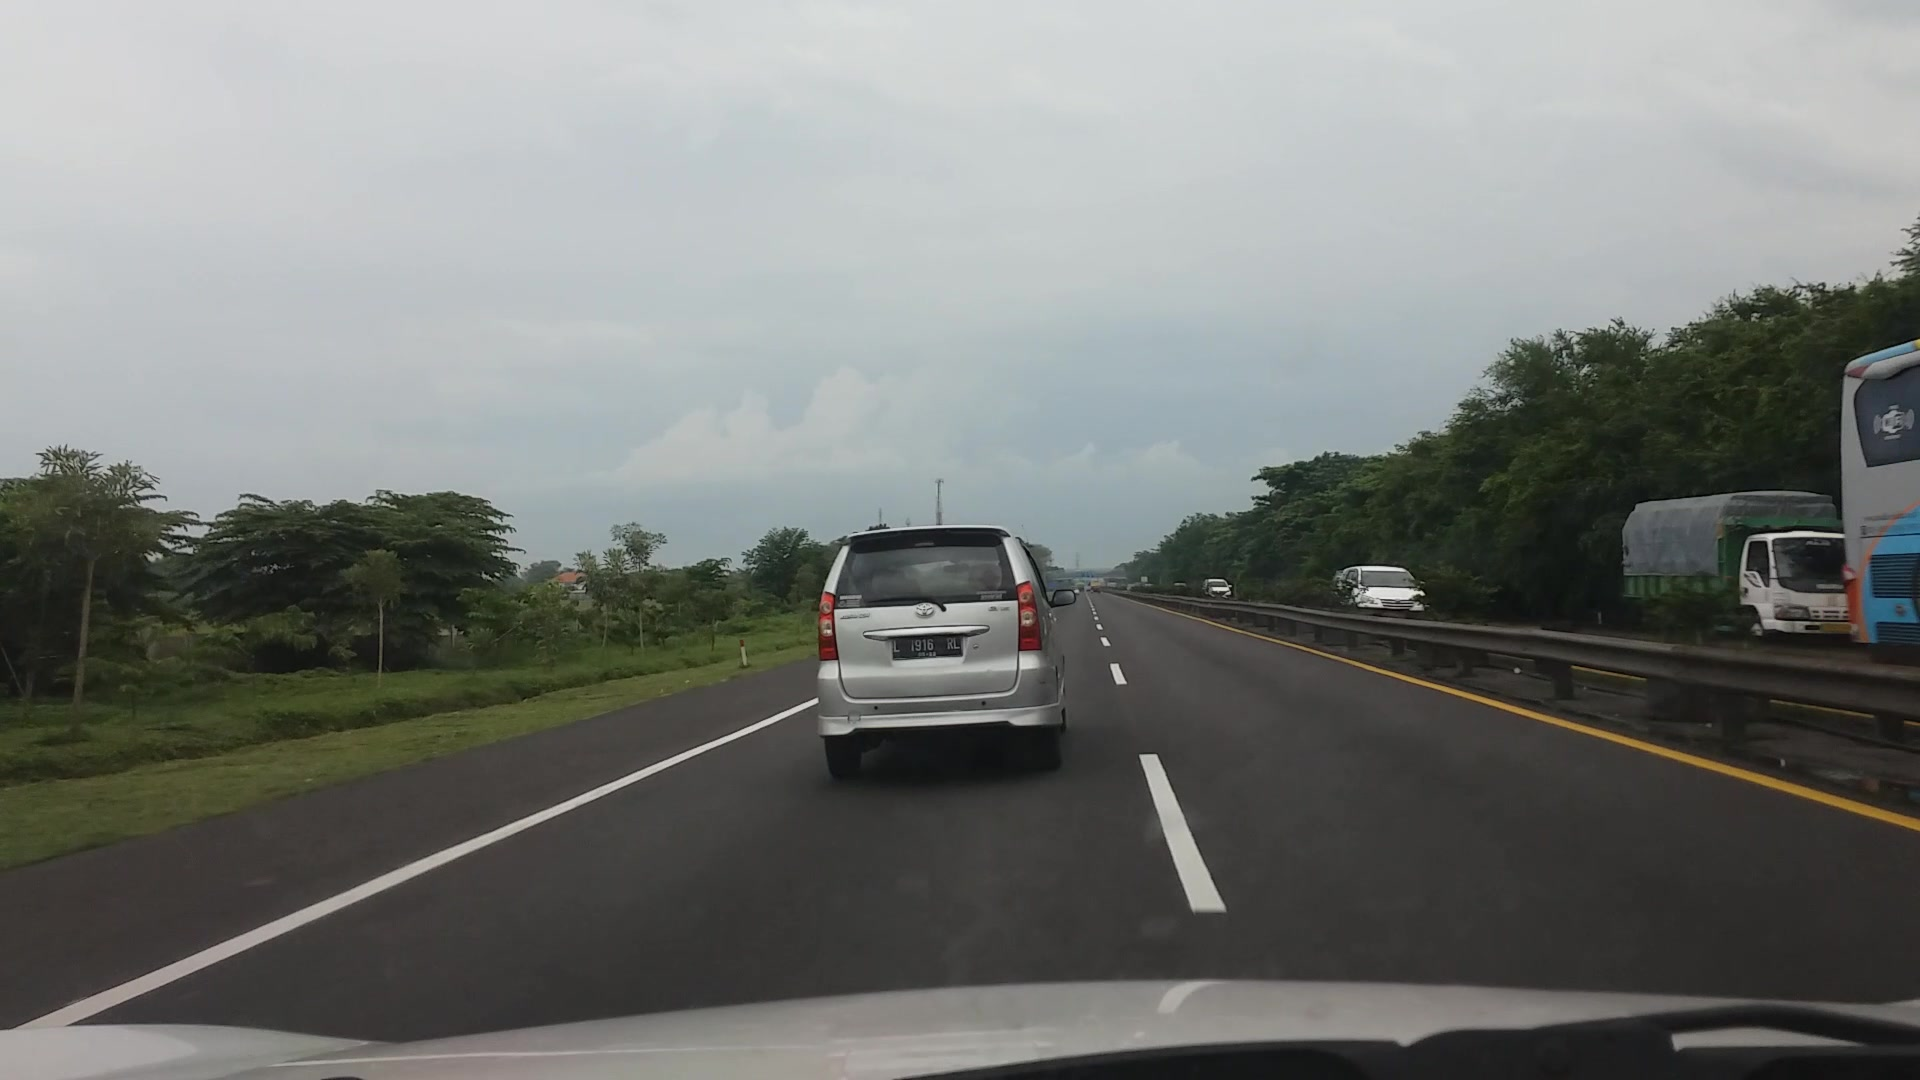plate_positive: (891, 636, 963, 659)
